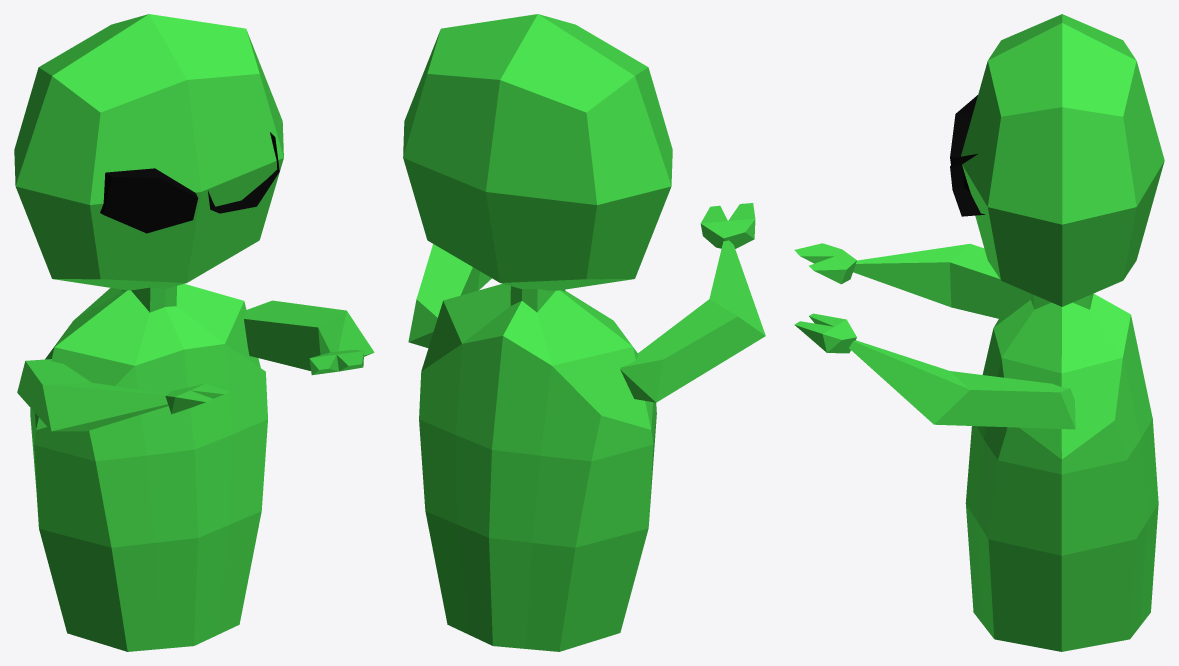
Rendered from alien.fbx.
3 views of the same model, side by side, from view 1: azimuth 30°, elevation 25°; view 2: azimuth 150°, elevation 25°; view 3: azimuth 270°, elevation 25° (orthographic).
Visible parts, largest first — view 1: Alien, head, Arm_R, Arm_L, Eye_R, Hand_L, Hand_R, Eye_L; view 2: Alien, head, Arm_R, Arm_L, Hand_R; view 3: Alien, head, Arm_L, Arm_R, Hand_L, Hand_R, Eye_L, Eye_R.
Part boxes in pixels (x1,y1,x2,y2): Alien: (30, 284, 267, 651); head: (14, 14, 283, 290); Arm_R: (17, 359, 168, 431); Arm_L: (244, 300, 374, 370); Eye_R: (100, 168, 198, 233); Hand_L: (309, 350, 364, 375); Hand_R: (165, 383, 229, 414); Eye_L: (208, 132, 279, 213); Alien: (419, 283, 656, 651); head: (403, 14, 672, 290); Arm_R: (620, 240, 765, 402); Arm_L: (408, 244, 491, 347); Hand_R: (700, 203, 755, 248); Alien: (965, 293, 1158, 651); head: (961, 14, 1164, 306); Arm_L: (849, 340, 1075, 429); Arm_R: (853, 243, 1030, 318); Hand_L: (794, 313, 856, 353); Hand_R: (794, 243, 856, 284); Eye_L: (950, 153, 984, 216); Eye_R: (950, 95, 977, 164).
Bounding box in the file's own units: 56.62 × 100 × 57.11.
